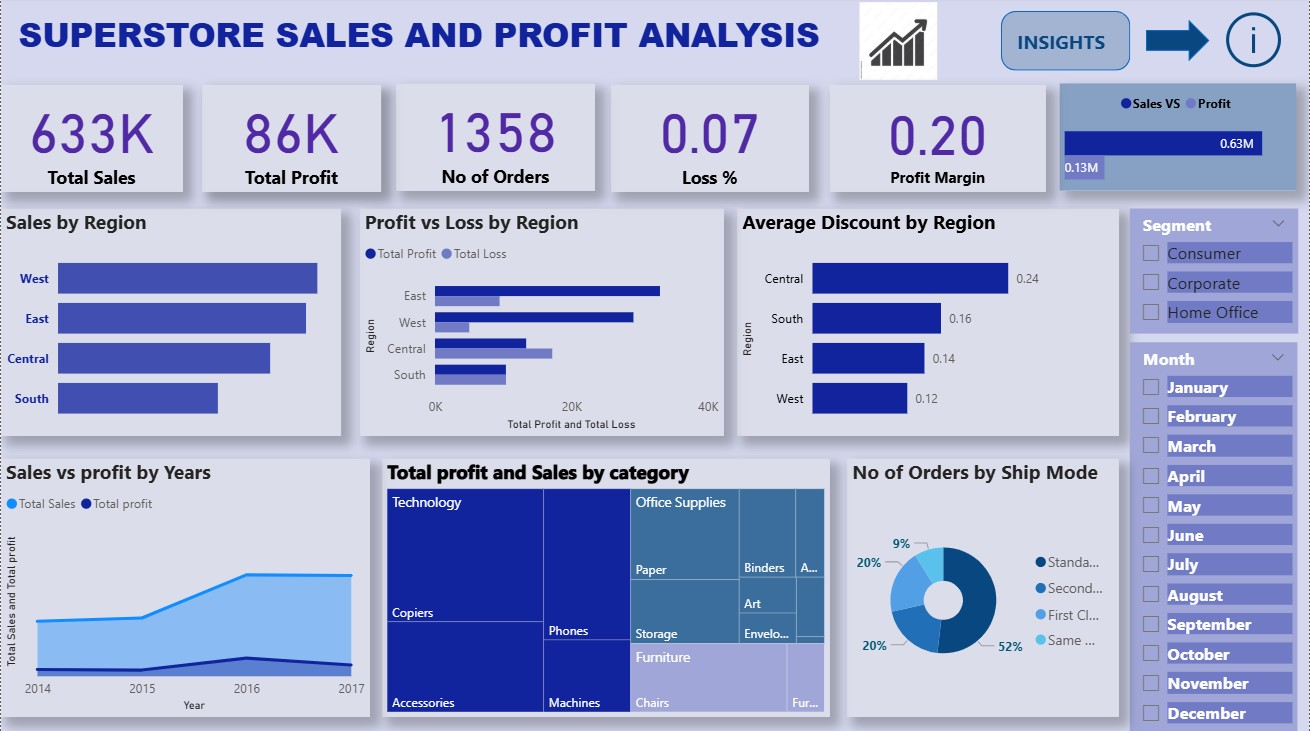

Layout of this report page (visuals, bound fields, positions):
{"tool":"powerbi","page":{"name":"Sales and profit dashboard","canvas":[1280,720],"ordinal":0},"visuals":[{"type":"card","fields":{"Values":["Sum(DA 1 P.Sales)"]},"box":[0,86.8,177.3,105.2],"z":0},{"type":"card","fields":{"Values":["Sum(DA 1 P.Profit)"]},"box":[196.9,86.8,174.9,105.2],"z":1000},{"type":"card","fields":{"Values":["Count(DA 1 P.Order ID)"]},"box":[386.4,85.6,194.4,105.2],"z":2000},{"type":"card","fields":{"Values":["DA 1 P.Loss %"]},"box":[596.7,86.8,193.2,105.2],"z":3000},{"type":"clusteredBarChart","fields":{"Category":["DA 1 P.Region"],"Y":["Sum(DA 1 P.Sales)"]},"box":[0,207.6,332.9,222.8],"z":4000},{"type":"clusteredBarChart","title":"Profit vs Loss by Region","fields":{"Y":["Sum(DA 1 P.Profit)","Sum(DA 1 P.Loss)"],"Category":["DA 1 P.Region"]},"box":[351,207.9,355.8,222.6],"z":5000},{"type":"clusteredBarChart","title":"Average Discount by Region","fields":{"Category":["DA 1 P.Region"],"Y":["Avg(DA 1 P.Discount)"]},"box":[720.3,207.6,373.4,222.8],"z":6000},{"type":"areaChart","title":"Sales vs profit by Years","fields":{"Category":["DA 1 P.Order Date.Variation.Date Hierarchy.Year"],"Y":["Sum(DA 1 P.Sales)","Sum(DA 1 P.Profit)"]},"box":[0,452.4,360.7,253.1],"z":7000},{"type":"treemap","title":"Total profit and Sales by category ","fields":{"Group":["DA 1 P.Category"],"Details":["DA 1 P.Sub-Category"],"Values":["Sum(DA 1 P.Profit)"]},"box":[373,452.4,437.8,253.1],"z":8000},{"type":"clusteredBarChart","fields":{"Y":["Sum(DA 1 P.Sales)","Sum(DA 1 P.Profit Without Loss)"]},"box":[1035.7,85.6,231.1,105.2],"z":9000},{"type":"slicer","fields":{"Values":["DA 1 P.Segment"]},"box":[1103.8,207.6,164.6,122.8],"z":10000},{"type":"slicer","fields":{"Values":["DA 1 P.Order Date.Variation.Date Hierarchy.Month"]},"box":[1104.2,338.7,163.9,381.5],"z":11000},{"type":"textbox","box":[12.7,10.1,798.7,77.2],"z":12000},{"type":"image","box":[827.8,1.3,100,86.1],"z":13000},{"type":"actionButton","title":"Insights","box":[1182.3,0,97.5,86.1],"z":14000},{"type":"textbox","box":[989.9,26.6,113.9,43],"z":15000},{"type":"shape","box":[978.5,15.2,126.6,58.2],"z":16000},{"type":"shape","box":[1120.3,22.8,62,40.5],"z":17000},{"type":"card","fields":{"Values":["DA 1 P.Profit Margin"]},"box":[810.7,86.8,211.6,105.2],"z":18000},{"type":"donutChart","title":"No of Orders by Ship Mode","fields":{"Category":["DA 1 P.Ship Mode"],"Y":["CountNonNull(DA 1 P.Order ID)"]},"box":[827.9,452.4,265.4,253.1],"z":19000}]}

Visuals, with their boxes in screenshot pixels (x1, y1, x2, y2), scaled from the page's 1280x720 canvas onto the 1310x731 screenshot:
card - Sum(DA 1 P.Sales): locate(0, 88, 181, 195)
card - Sum(DA 1 P.Profit): locate(202, 88, 381, 195)
card - Count(DA 1 P.Order ID): locate(395, 87, 594, 194)
card - DA 1 P.Loss %: locate(611, 88, 808, 195)
clusteredBarChart - DA 1 P.Region x Sum(DA 1 P.Sales): locate(0, 211, 341, 437)
"Profit vs Loss by Region" clusteredBarChart: locate(359, 211, 723, 437)
"Average Discount by Region" clusteredBarChart: locate(737, 211, 1119, 437)
"Sales vs profit by Years" areaChart: locate(0, 459, 369, 716)
"Total profit and Sales by category " treemap: locate(382, 459, 830, 716)
clusteredBarChart - Sum(DA 1 P.Sales) x Sum(DA 1 P.Profit Without Loss): locate(1060, 87, 1296, 194)
slicer - DA 1 P.Segment: locate(1130, 211, 1298, 335)
slicer - DA 1 P.Order Date.Variation.Date Hierarchy.Month: locate(1130, 344, 1298, 730)
textbox: locate(13, 10, 830, 89)
image: locate(847, 1, 950, 89)
"Insights" actionButton: locate(1210, 0, 1309, 87)
textbox: locate(1013, 27, 1130, 71)
shape: locate(1001, 15, 1131, 75)
shape: locate(1147, 23, 1210, 64)
card - DA 1 P.Profit Margin: locate(830, 88, 1046, 195)
"No of Orders by Ship Mode" donutChart: locate(847, 459, 1119, 716)
